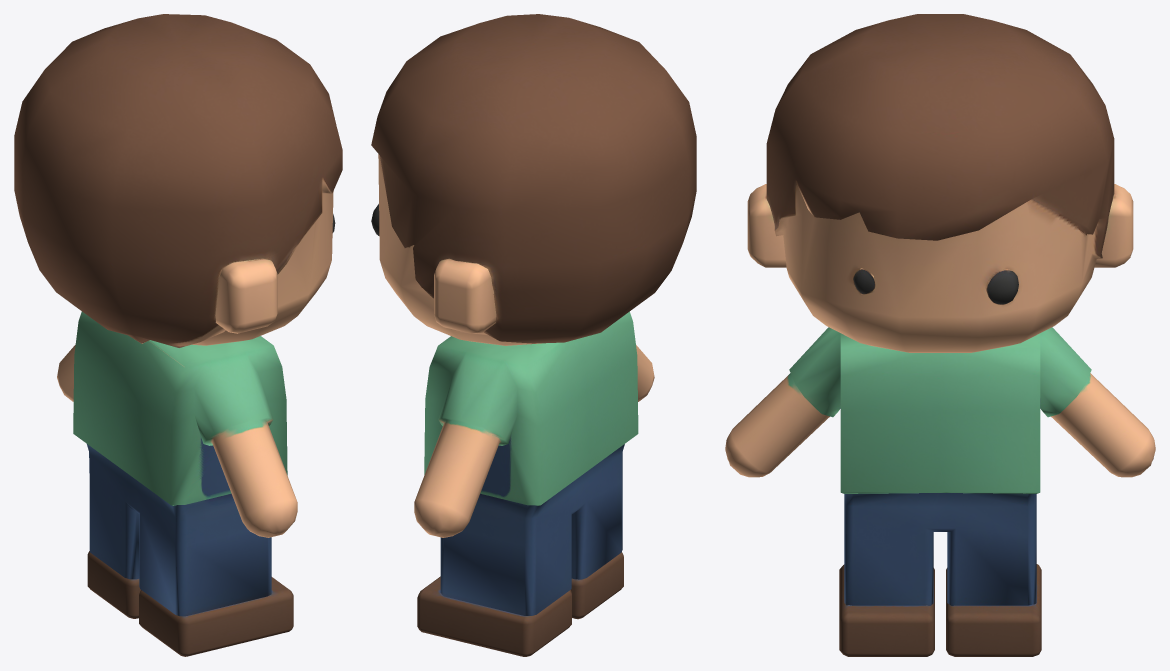
The model's file is person_v3.glb.
3 renders of one model, left to right at view 1: azimuth 30°, elevation 25°; view 2: azimuth 150°, elevation 25°; view 3: azimuth 270°, elevation 25°, orthographic. The views are drawn at different scales.
Parts seen in each view (by area): view 1: tripo_node_2e839337-4b5c-4884-a7fa-c6025695c810; view 2: tripo_node_2e839337-4b5c-4884-a7fa-c6025695c810; view 3: tripo_node_2e839337-4b5c-4884-a7fa-c6025695c810.
Boxes of the visible parts, <box> form: tripo_node_2e839337-4b5c-4884-a7fa-c6025695c810: <box>14,14,342,656</box>; tripo_node_2e839337-4b5c-4884-a7fa-c6025695c810: <box>371,14,696,656</box>; tripo_node_2e839337-4b5c-4884-a7fa-c6025695c810: <box>725,14,1155,656</box>.
Bounding box in the file's own units: 0.502 × 0.998 × 0.6699.
1 material, 1 textured.
